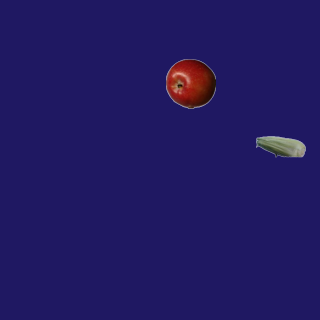Apple Braeburn: (165, 58, 215, 108)
Corn Husk: (255, 121, 305, 171)
